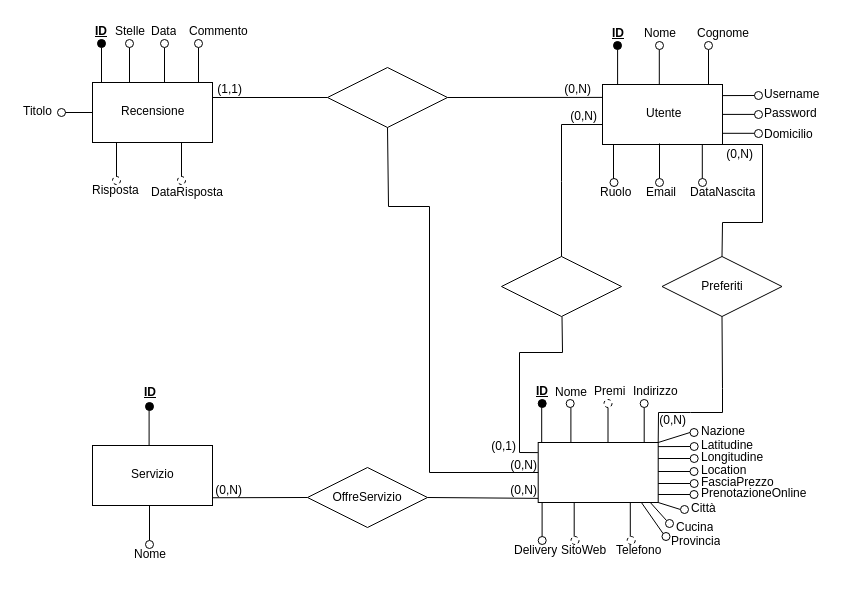
Some shapes in this 844 by 590 pixel diagram are drawn without their labels. The centre of each missing label's shape, as x and y in pixels:
"Gestisce" goes at (x=561, y=286).
"Pubblica" goes at (x=387, y=97).
"Ristorante" goes at (x=597, y=472).
